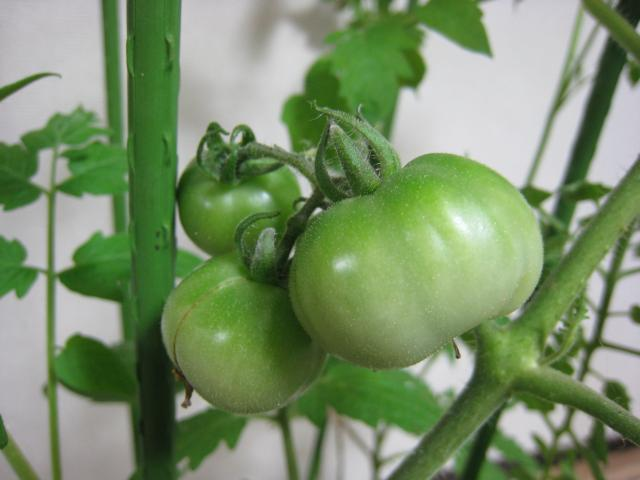stems: (268, 186, 327, 278), (232, 143, 320, 186)
tomato: (289, 150, 544, 374), (160, 250, 325, 411), (181, 142, 301, 258)
